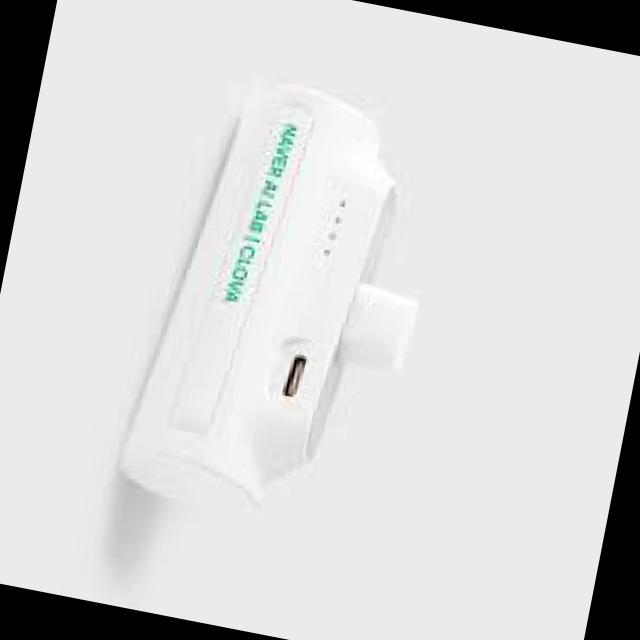power_bank: (108, 63, 463, 546)
